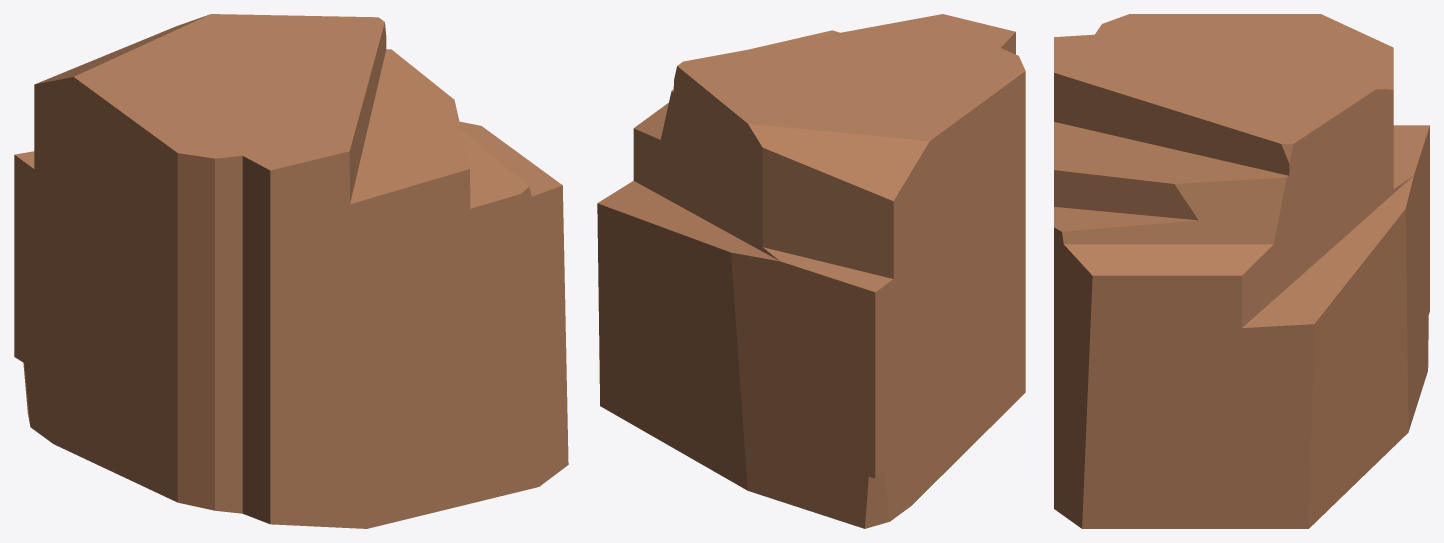
Rendered from DesertRockSmall_02.fbx.
The picture shows the model from 3 angles, left to right: view 1: azimuth 30°, elevation 25°; view 2: azimuth 150°, elevation 25°; view 3: azimuth 270°, elevation 25°; orthographic projection. The views are drawn at different scales.
Parts seen in each view (by area): view 1: Cube.003; view 2: Cube.003; view 3: Cube.003.
Boxes of the visible parts, bbox=[...] form: Cube.003: bbox=[14, 14, 568, 528]; Cube.003: bbox=[597, 14, 1025, 528]; Cube.003: bbox=[1054, 14, 1429, 528].
Size of the model in its own units: 200 by 200 by 194.
